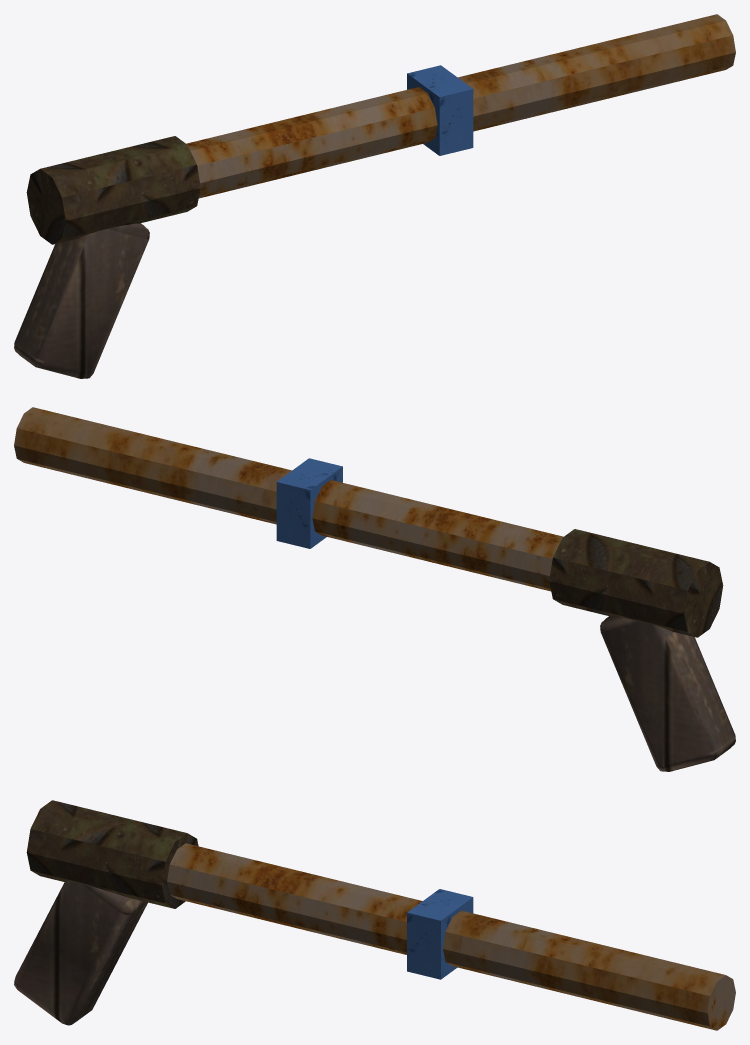
The model's file is held_weapon_waterpipe.glb.
3 views of the same model, one above another, from view 1: azimuth 30°, elevation 25°; view 2: azimuth 150°, elevation 25°; view 3: azimuth 330°, elevation 25° (orthographic).
Visible parts, largest first — view 1: cyl, box, cyl.001, box.001; view 2: cyl, box, cyl.001, box.001; view 3: cyl, cyl.001, box, box.001.
Boxes of the visible parts, x1,y1,x2,y2 form: cyl: (186,14,735,198); box: (14,223,149,378); cyl.001: (26,136,200,244); box.001: (407,65,473,155); cyl: (14,407,563,591); box: (600,616,735,771); cyl.001: (549,529,723,637); box.001: (276,458,342,548); cyl: (167,843,735,1030); cyl.001: (26,800,198,908); box: (14,880,147,1025); box.001: (407,889,473,979).
Bounding box in the file's own units: 0.6204 × 0.1755 × 0.06.
Materials: 4 (4 with a texture image).
